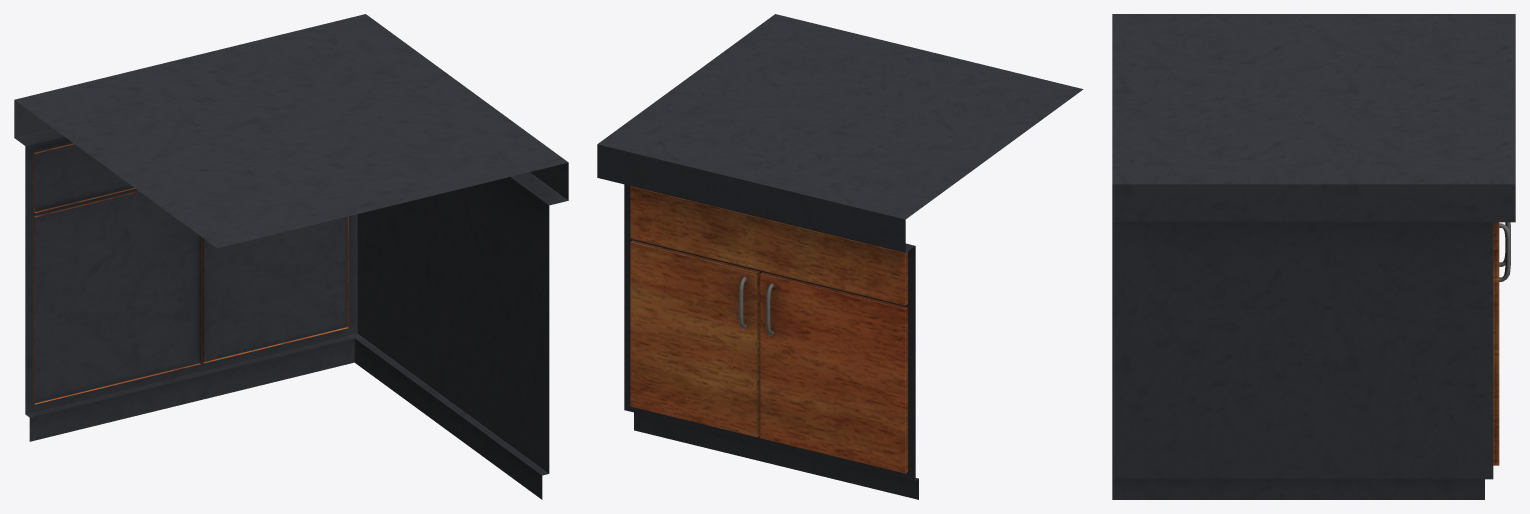
Rendered from CounterRightV1.fbx.
The picture shows the model from 3 angles, left to right: view 1: azimuth 30°, elevation 25°; view 2: azimuth 150°, elevation 25°; view 3: azimuth 270°, elevation 25°; orthographic projection. The views are drawn at different scales.
Visible parts, largest first — view 1: CounterRightV1; view 2: CounterRightV1; view 3: CounterRightV1.
Boxes of the visible parts, x1,y1,x2,y2 form: CounterRightV1: [14, 14, 568, 499]; CounterRightV1: [597, 14, 1083, 499]; CounterRightV1: [1112, 14, 1515, 499].
Size of the model in its own units: 152 by 137 by 152.
